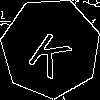K: (25, 23, 79, 80)
